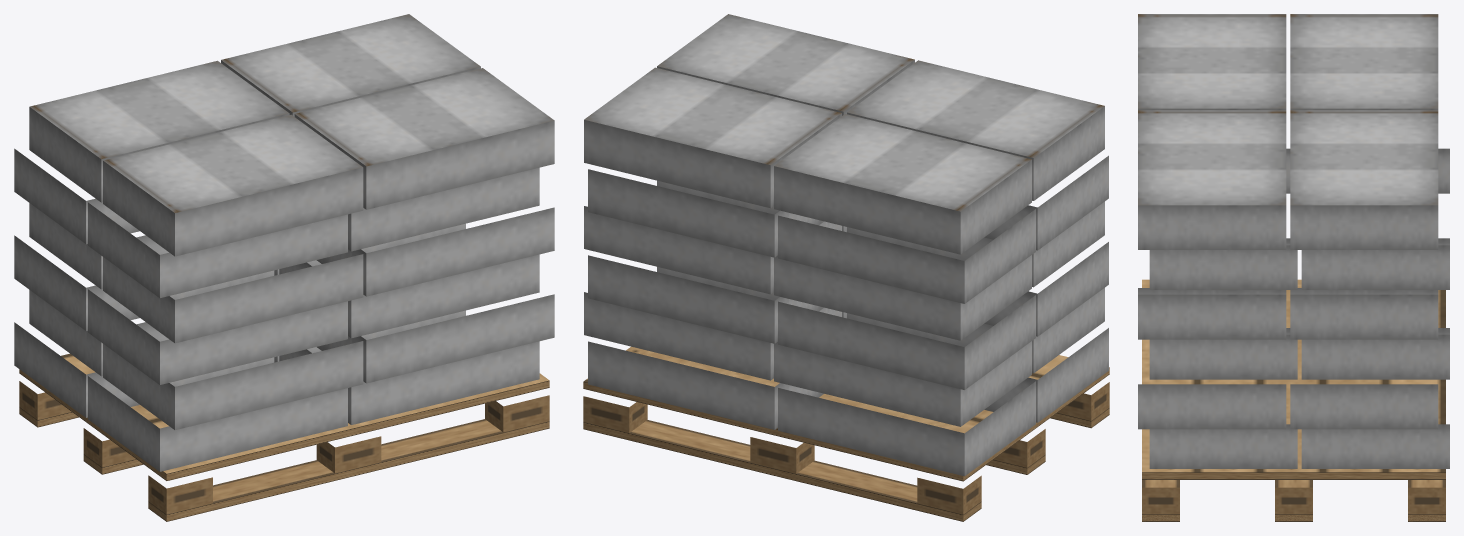
File: paleta_pytle.glb
3 renders of one model, left to right at view 1: azimuth 30°, elevation 25°; view 2: azimuth 150°, elevation 25°; view 3: azimuth 270°, elevation 25°, orthographic. The views are drawn at different scales.
Parts seen in each view (by area): view 1: paleta_pytle; view 2: paleta_pytle; view 3: paleta_pytle.
Boxes of the visible parts, box(x1,y1,x2,y2) form: paleta_pytle: box(14, 14, 554, 521); paleta_pytle: box(583, 14, 1109, 521); paleta_pytle: box(1138, 14, 1449, 521).
Size of the model in its own units: 1.22 by 0.924 by 0.82.
Materials: 1 (1 with a texture image).
